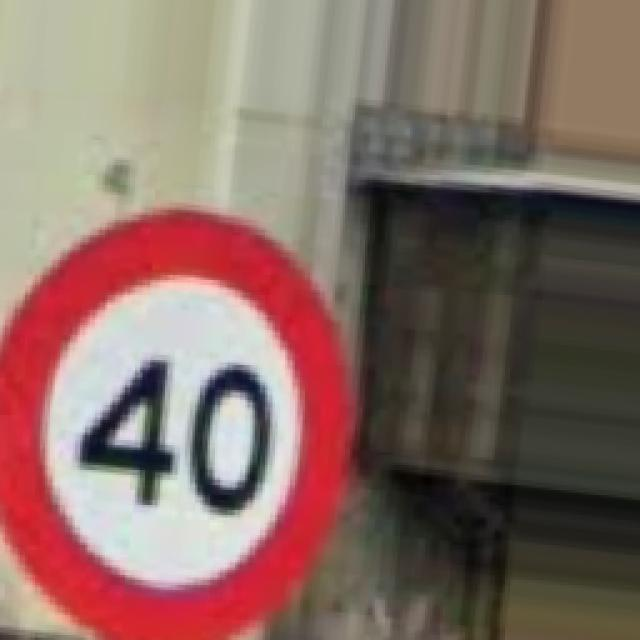Speed Limit -40-: (0, 210, 350, 638)
